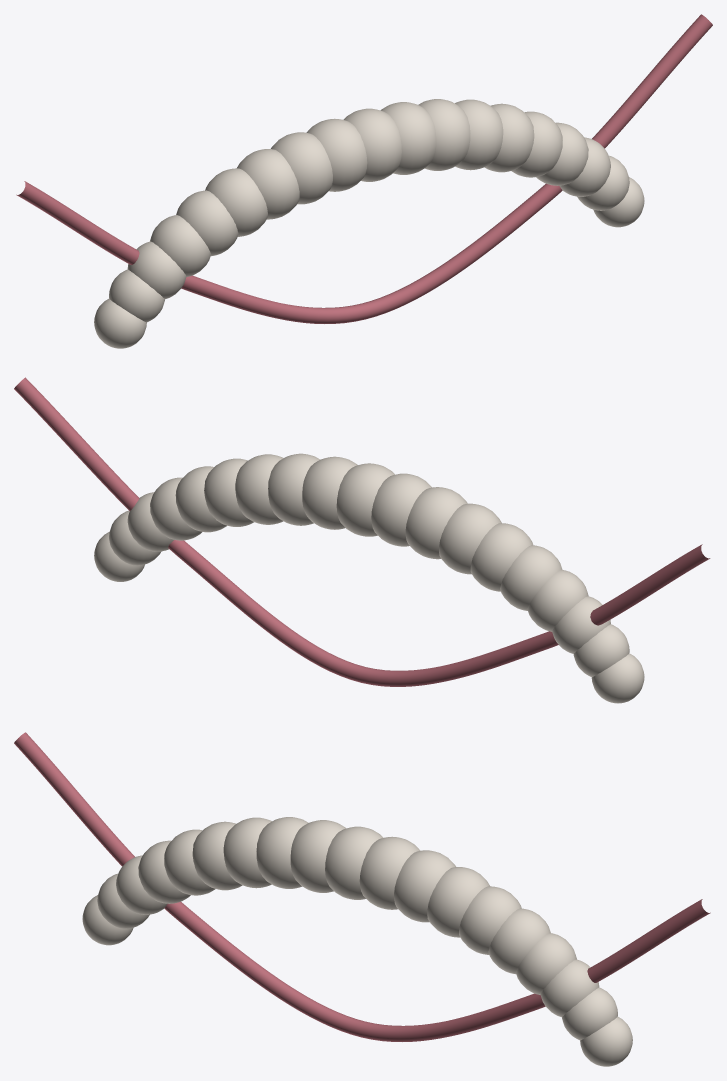
File: elysian-pearl-lariat.glb
3 renders of one model, top to bottom at view 1: azimuth 30°, elevation 25°; view 2: azimuth 150°, elevation 25°; view 3: azimuth 330°, elevation 25°, orthographic.
Parts seen in each view (by area): view 1: pearl (×19), chain; view 2: pearl (×19), chain; view 3: pearl (×19), chain.
Part boxes in pixels (x1,y1,x2,y2): pearl (×19): (94, 99, 644, 348); chain: (16, 14, 712, 323); pearl (×19): (94, 453, 644, 703); chain: (14, 377, 710, 686); pearl (×19): (82, 817, 632, 1066); chain: (14, 732, 710, 1041).
Bounding box in the file's own units: 2.73 × 0.8302 × 0.25.
